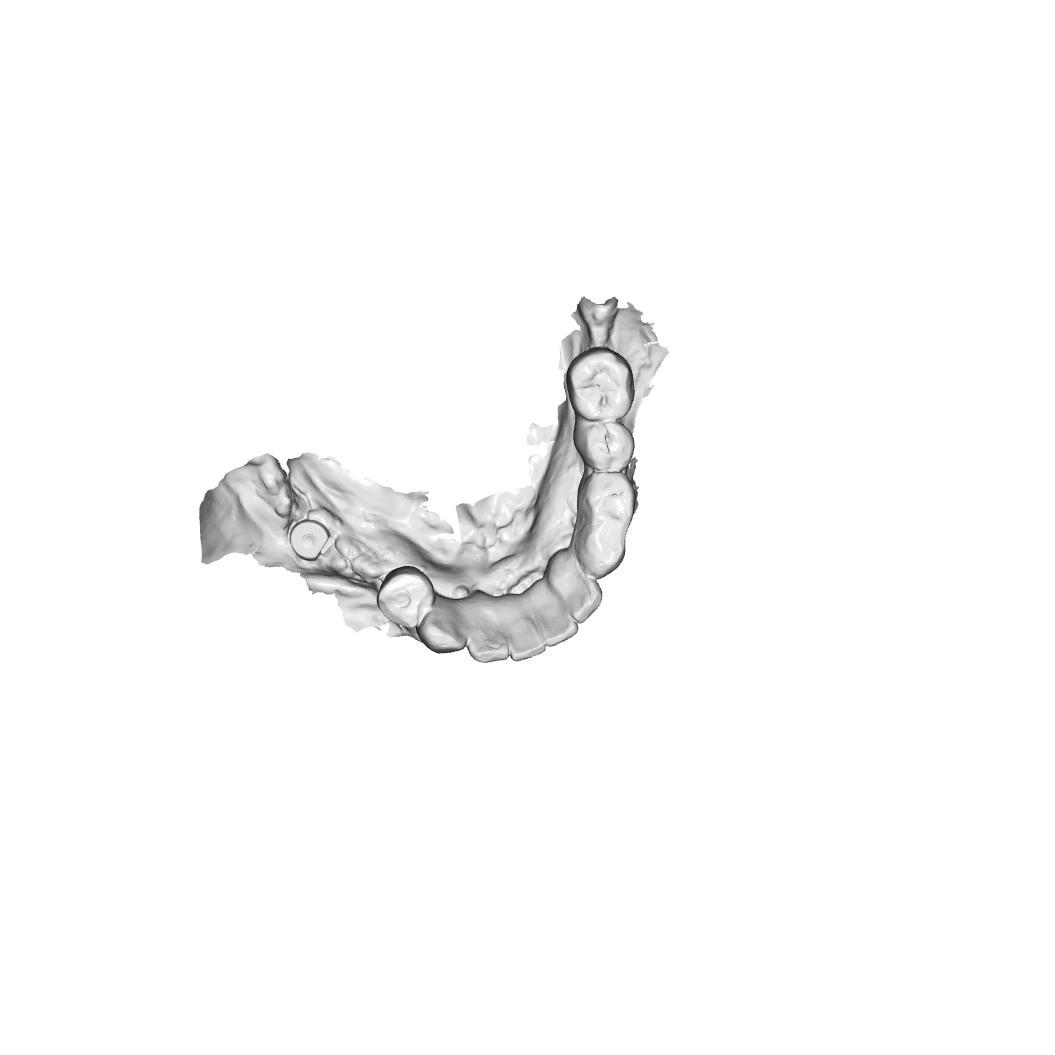canine: (576, 519, 627, 576), (420, 603, 468, 658)
implant: (286, 518, 337, 564)
incisor: (465, 604, 514, 665), (560, 567, 604, 625), (506, 606, 551, 661), (536, 592, 579, 649)
molar: (565, 348, 640, 423)
premolar: (578, 473, 645, 530), (377, 566, 436, 628), (579, 418, 637, 469)
